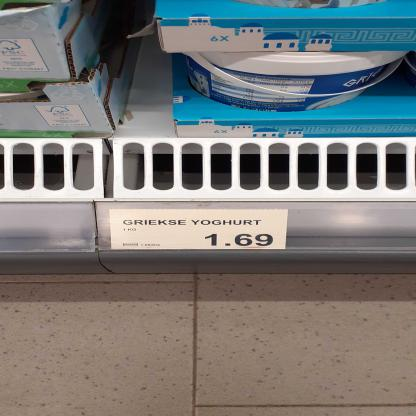prtg: (110, 210, 289, 250)
